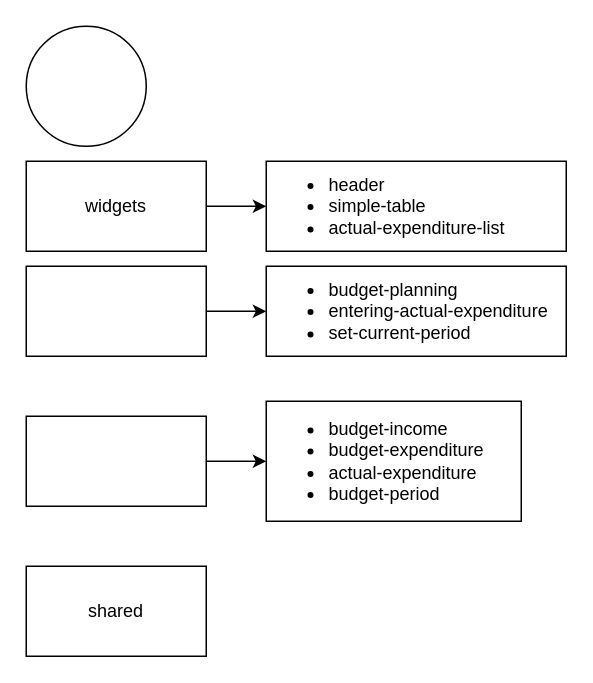
This 593x683 diagram has some shape labels left out. Each missing label, with the centre of its shape:
App: point 85,85
entities: point 115,460
features: point 115,310
